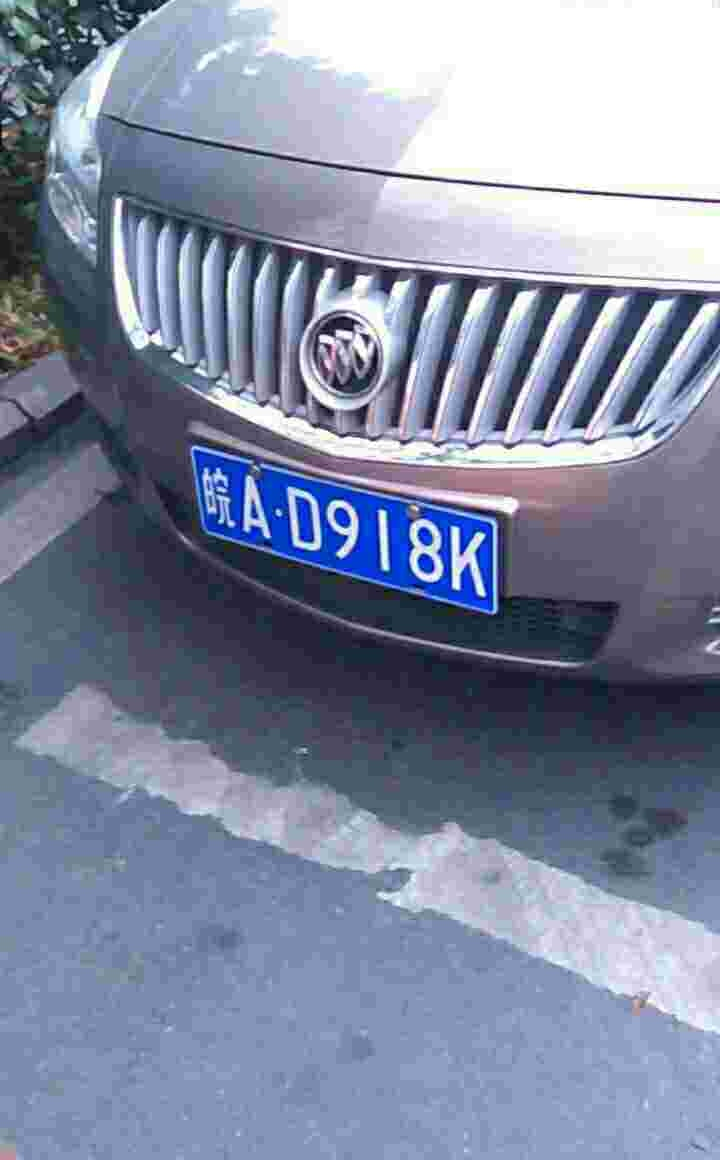license_plate: (194, 438, 507, 606)
